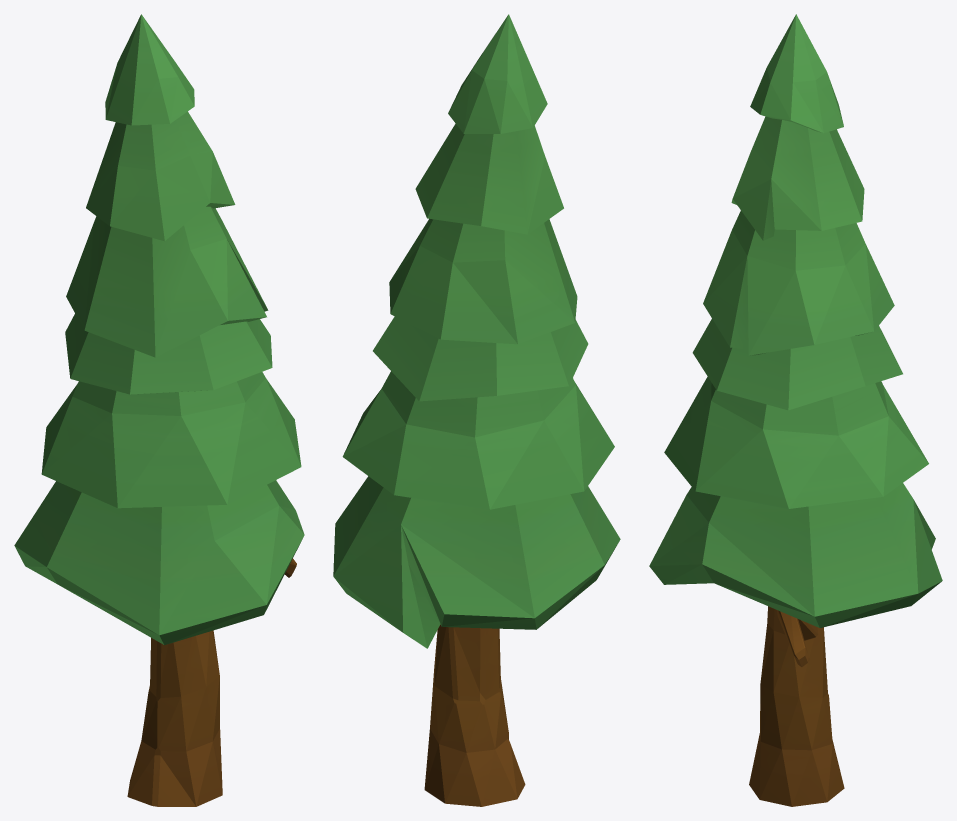
The model's file is tree_fir_slim.glb.
3 renders of one model, left to right at view 1: azimuth 30°, elevation 25°; view 2: azimuth 150°, elevation 25°; view 3: azimuth 270°, elevation 25°, orthographic. The views are drawn at different scales.
Visible parts, largest first — view 1: tree_fir_slim; view 2: tree_fir_slim; view 3: tree_fir_slim.
Boxes of the visible parts, left/top/right/bottom form: tree_fir_slim: left=14, top=14, right=304, bottom=806; tree_fir_slim: left=333, top=14, right=620, bottom=806; tree_fir_slim: left=649, top=14, right=942, bottom=806.
Bounding box in the file's own units: 1.32 × 3.8 × 1.34.
Materials: 1 (1 with a texture image).
